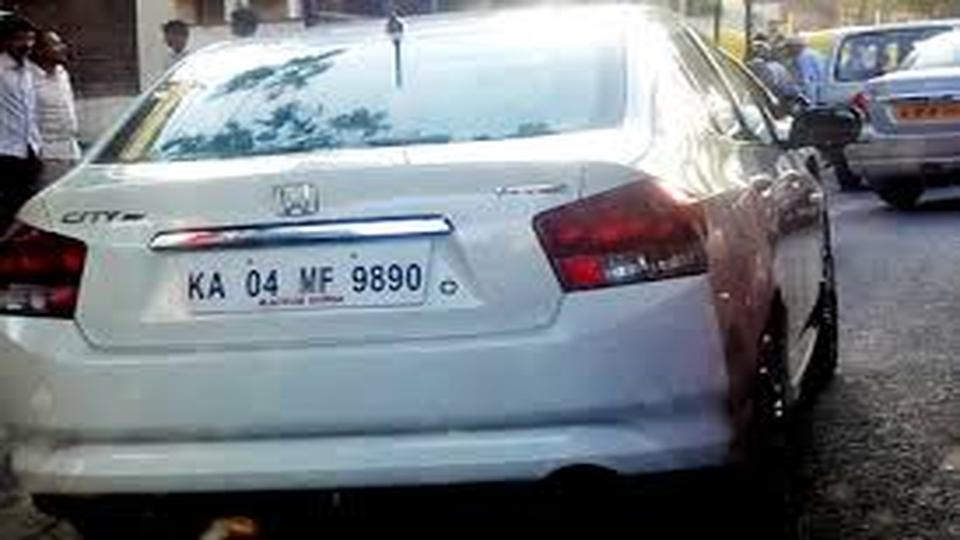NumberPlate: (172, 254, 432, 314)
